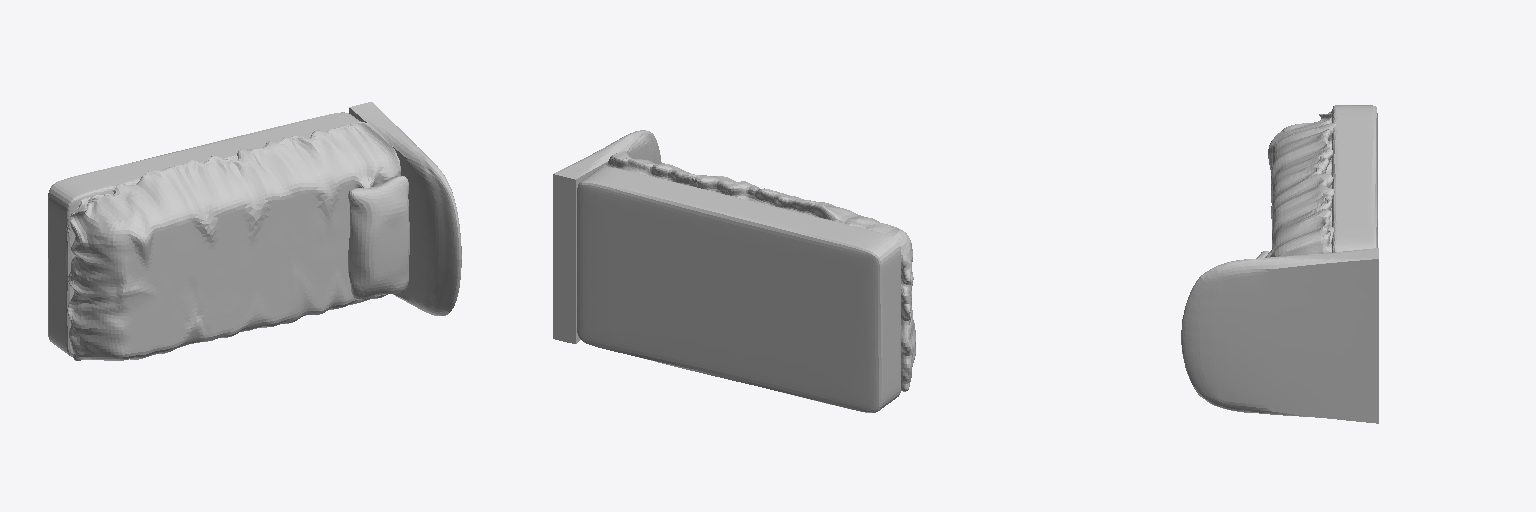
The model's file is Single bed.obj.
3 views of the same model, side by side, from view 1: azimuth 30°, elevation 25°; view 2: azimuth 150°, elevation 25°; view 3: azimuth 270°, elevation 25° (orthographic).
Visible parts, largest first — view 1: Group46035; view 2: Group46035; view 3: Group46035.
Boxes of the visible parts, <box> form: Group46035: <box>48,102,461,360</box>; Group46035: <box>553,130,915,412</box>; Group46035: <box>1181,105,1378,423</box>.
Size of the model in its own units: 4.49 by 2.28 by 2.33.